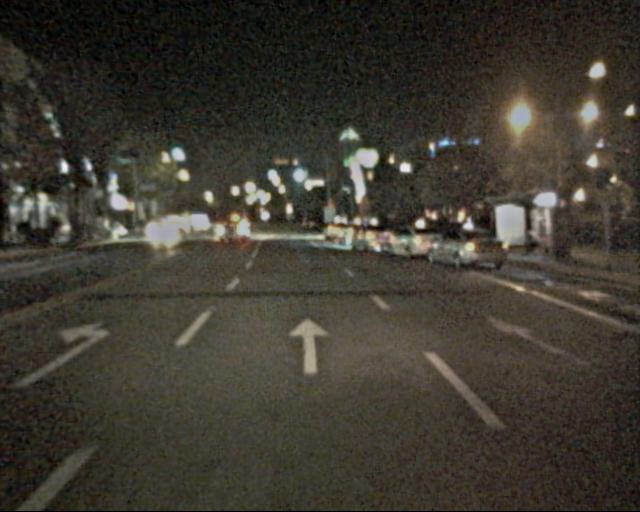person: (598, 205, 620, 262), (566, 208, 587, 260), (522, 228, 547, 261)
